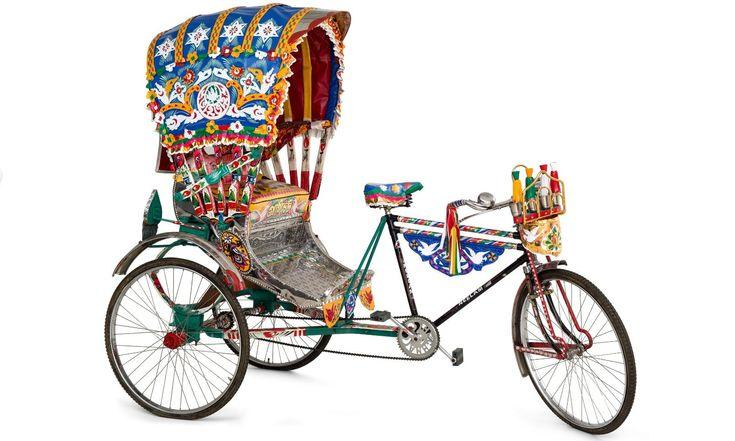Rickshaw: (105, 4, 635, 432)
